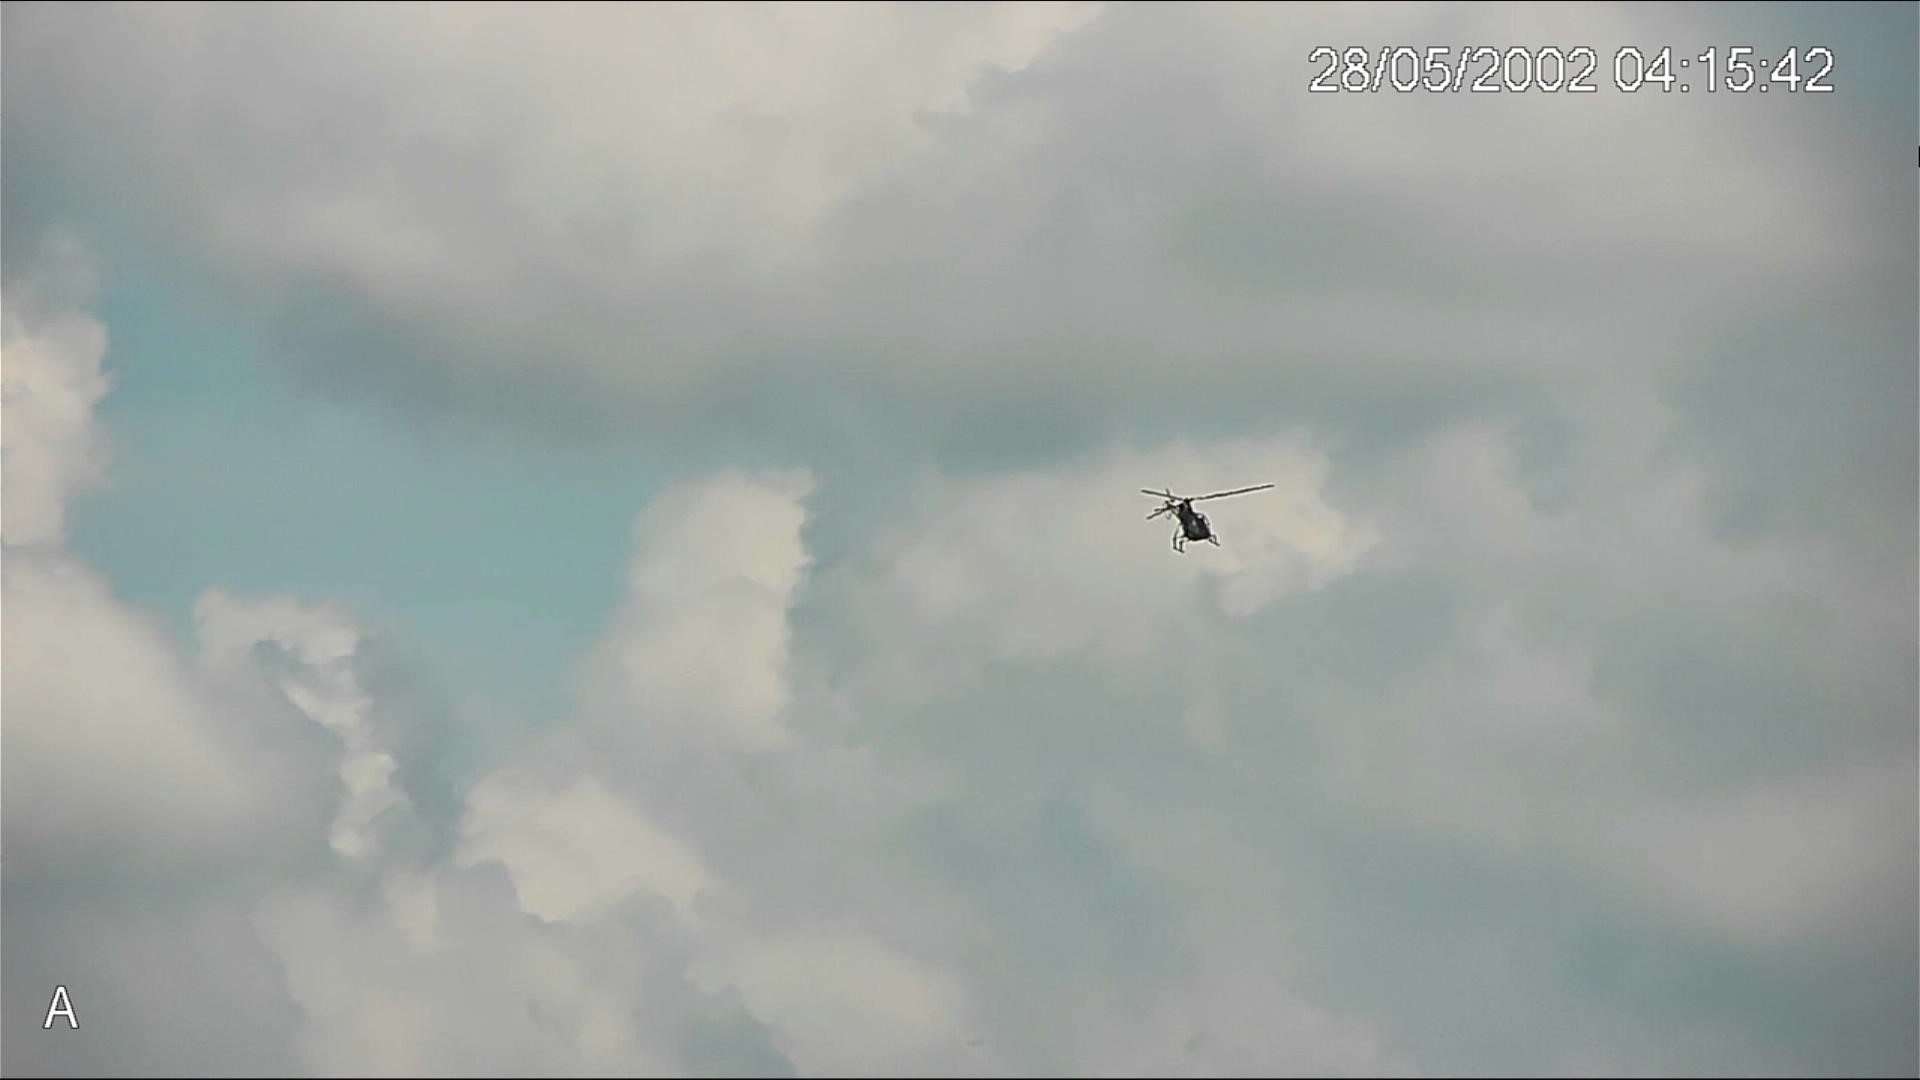SU_30: (1137, 483, 1226, 558)
